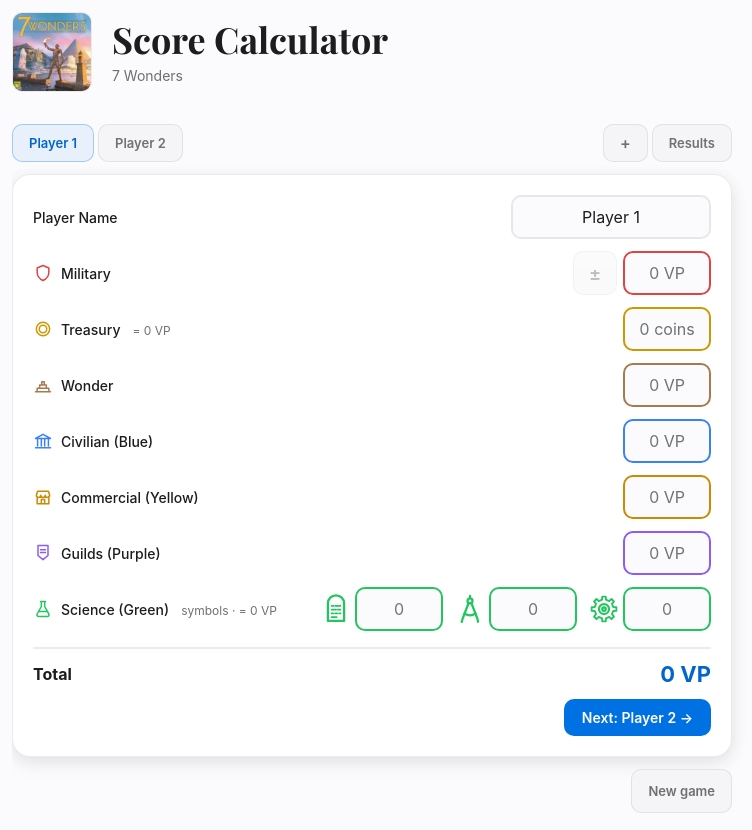
ScoreCalculatorPage › adds a third player via the Add player button
Click the button named "Add player". click: [625, 143]
box: [603,124,648,162]
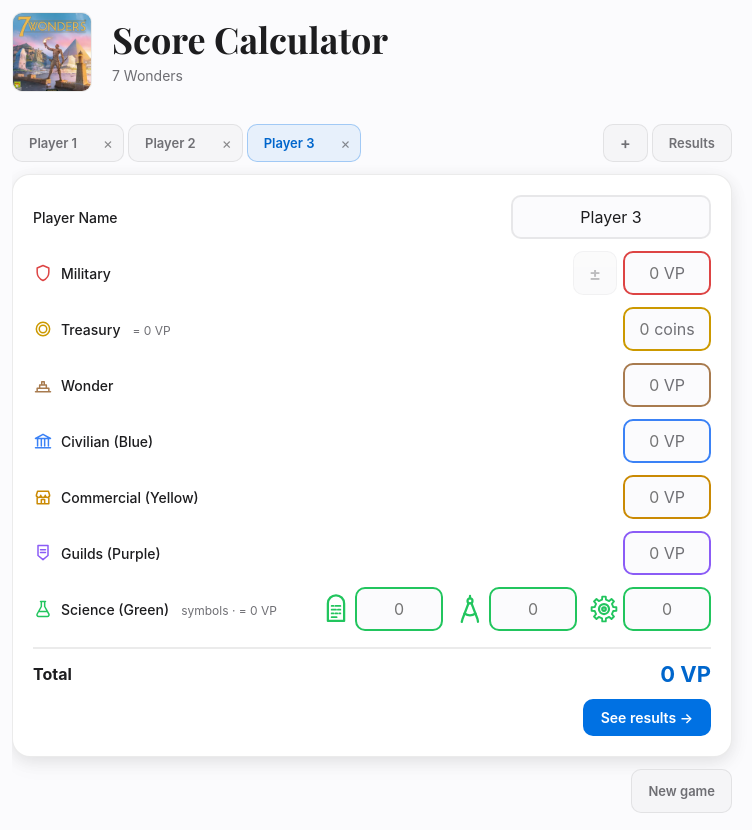
Result: the button "Player 3" is shown at [248,125,330,161]
